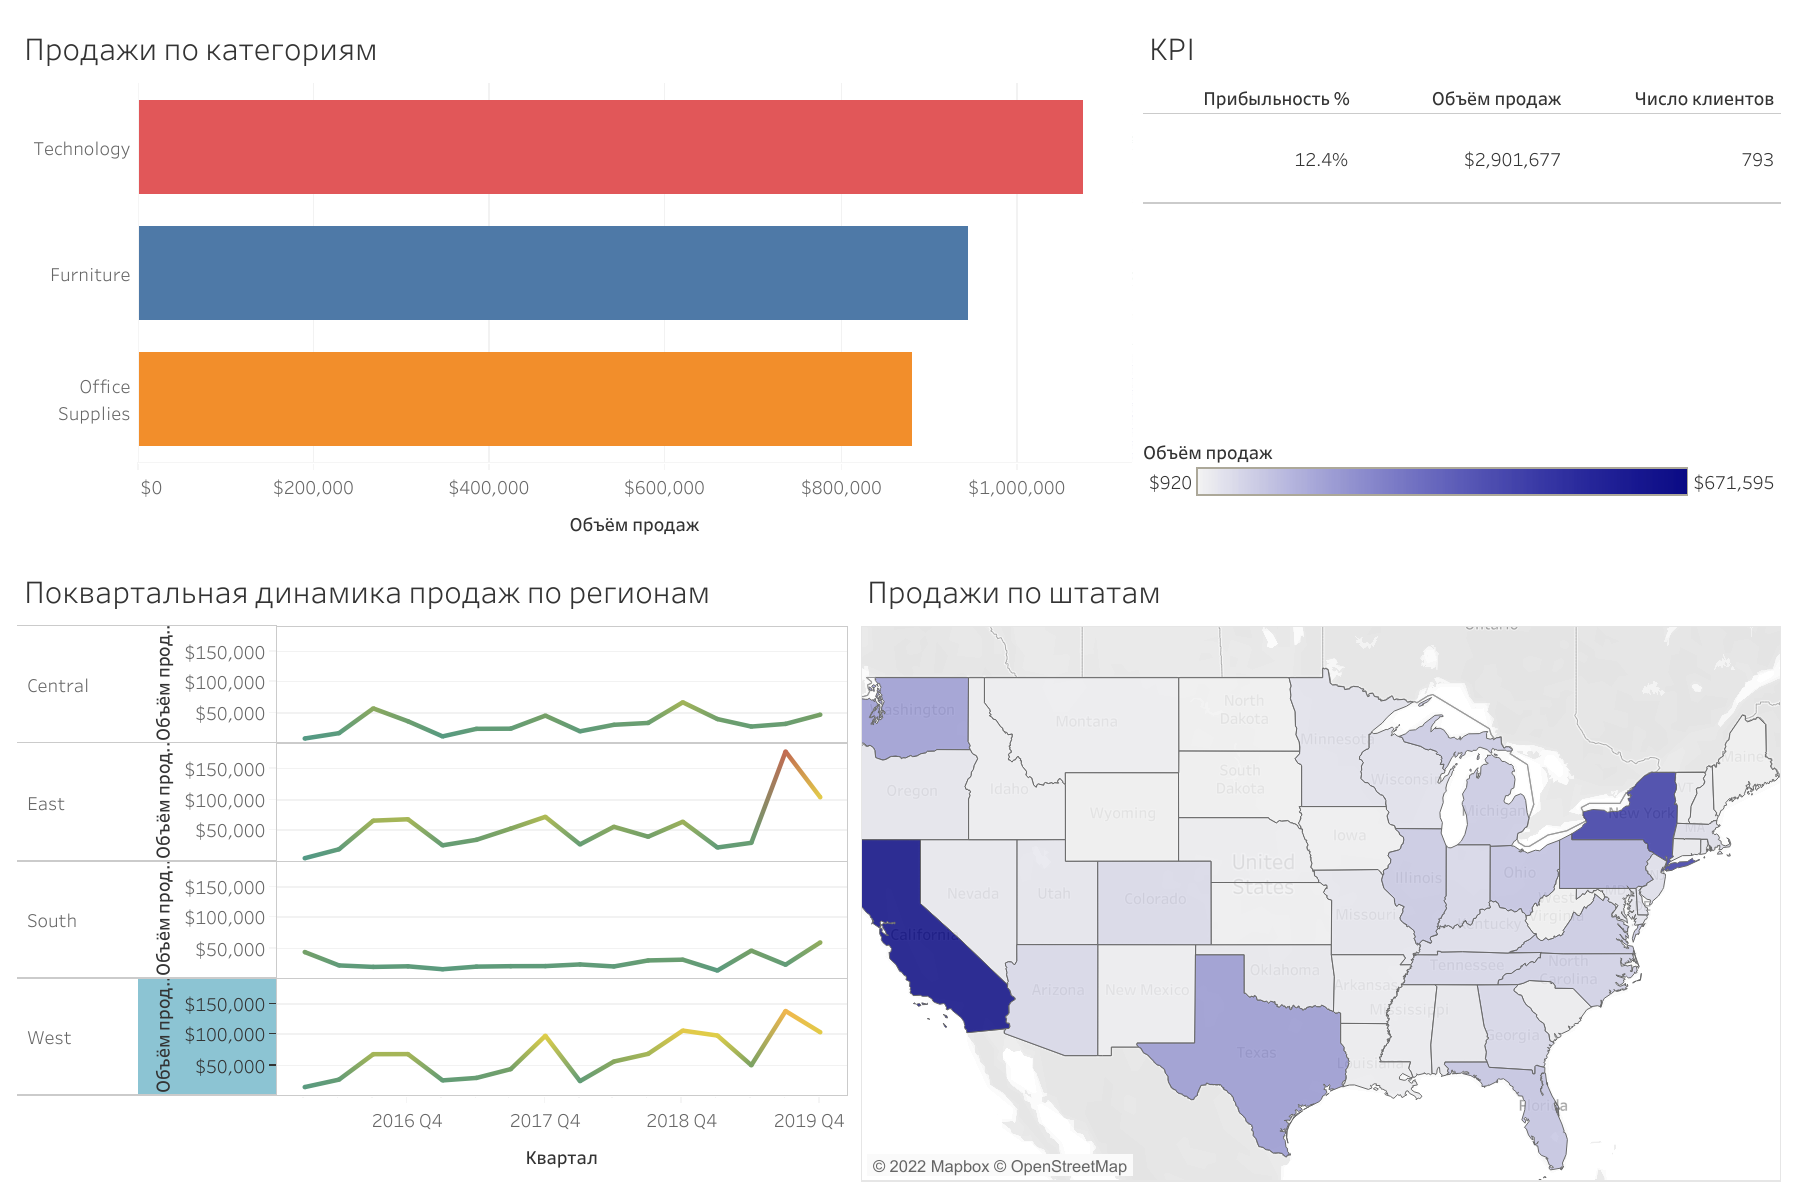

Layout of this report page (visuals, bound fields, positions):
{"tool":"tableau","page":{"name":"Dashboard 1","canvas":[1200,800],"ordinal":0},"visuals":[{"type":"worksheet","title":"Продажи по категориям","mark":"Automatic","rows":["Category"],"cols":["Sales"],"box":[8,8,750,362]},{"type":"worksheet","title":"KPI","mark":"Automatic","box":[758,8,434,276]},{"type":"legend","title":"Продажи по штатам","param":"[federated.0i9rm9d1l223rh1dx1ow70d0moyb].[sum:Sales:qk]","box":[758,284,434,86]},{"type":"worksheet","title":"Динамика по кварталам","mark":"Automatic","rows":["Region","Sales"],"cols":["Order Date"],"box":[8,370,562,422]},{"type":"worksheet","title":"Продажи по штатам","mark":"Automatic","box":[570,370,622,422]}]}

Visuals, with their boxes in screenshot pixels (x1, y1, x2, y2), scaled from the page's 1200x800 canvas onto the 1799x1199 screenshot:
"Продажи по категориям" worksheet: [12, 12, 1136, 555]
"KPI" worksheet: [1136, 12, 1787, 426]
"Продажи по штатам" legend: [1136, 426, 1787, 555]
"Динамика по кварталам" worksheet: [12, 555, 855, 1187]
"Продажи по штатам" worksheet: [855, 555, 1787, 1187]
